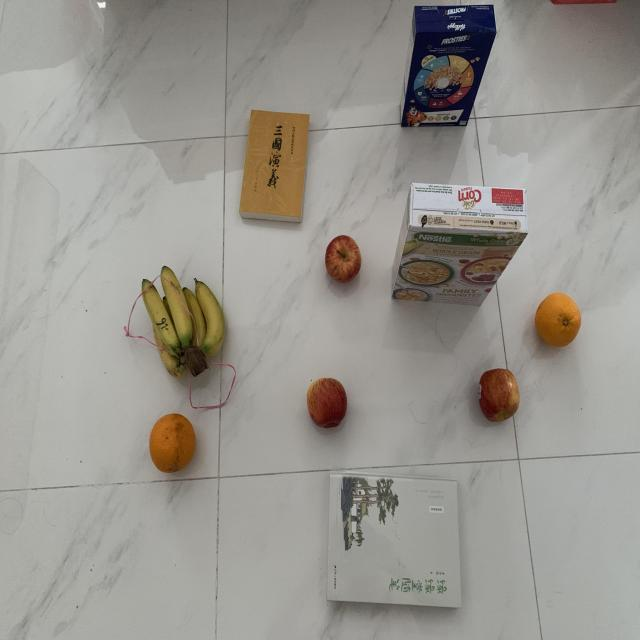Apple: (474, 365, 521, 430), (304, 373, 350, 432), (321, 233, 367, 284)
Banana: (135, 265, 232, 386)
Book: (324, 469, 466, 615), (236, 107, 314, 228)
Cerealbox: (381, 180, 531, 315), (398, 4, 499, 130)
Orange: (148, 412, 200, 475), (532, 291, 584, 349)
